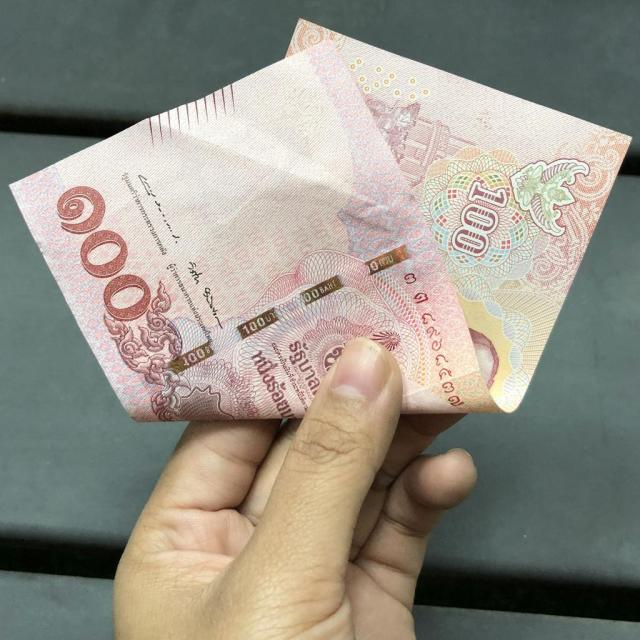THAI100: (10, 21, 630, 421)
